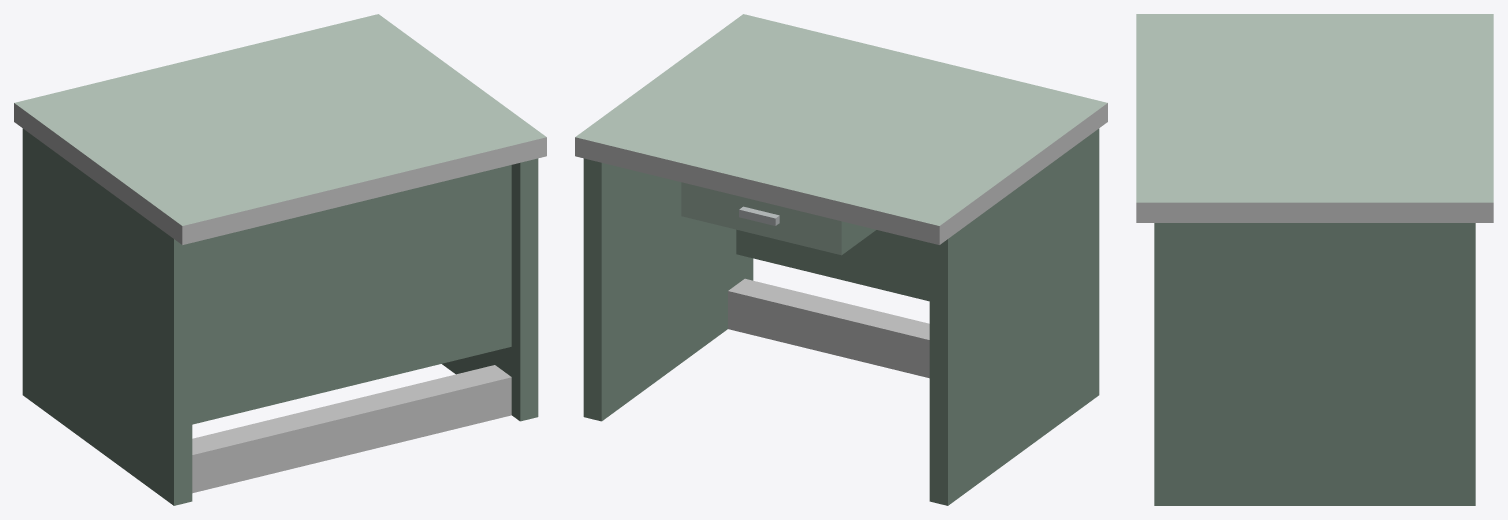
The model's file is desk.obj.
3 views of the same model, side by side, from view 1: azimuth 30°, elevation 25°; view 2: azimuth 150°, elevation 25°; view 3: azimuth 270°, elevation 25° (orthographic). The views are drawn at different scales.
Parts seen in each view (by area): view 1: desk; view 2: desk; view 3: desk.
Boxes of the visible parts, bbox=[...] form: desk: bbox=[14, 14, 546, 505]; desk: bbox=[575, 14, 1107, 505]; desk: bbox=[1136, 14, 1493, 505].
Size of the model in its own units: 1 by 0.75 by 0.8.
